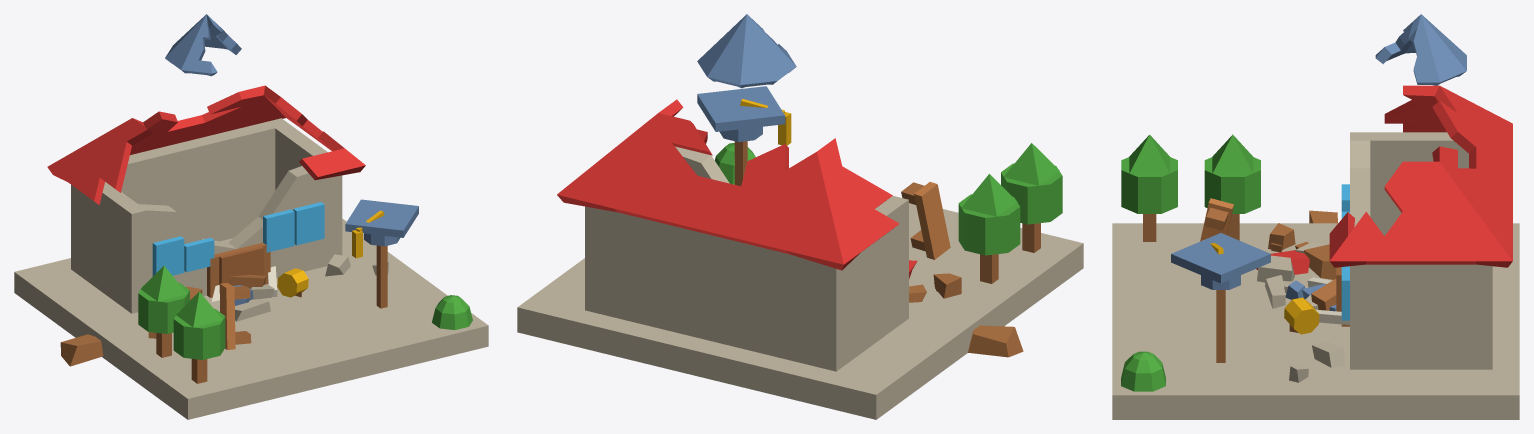
File: university_t1_v2_dmg1.glb
3 views of the same model, side by side, from view 1: azimuth 30°, elevation 25°; view 2: azimuth 150°, elevation 25°; view 3: azimuth 270°, elevation 25° (orthographic). The views are drawn at different scales.
Parts seen in each view (by area): view 1: university_t1_v2_dmg1; view 2: university_t1_v2_dmg1; view 3: university_t1_v2_dmg1.
Boxes of the visible parts, x1,y1,x2,y2 form: university_t1_v2_dmg1: (14,14,488,419); university_t1_v2_dmg1: (517,14,1083,419); university_t1_v2_dmg1: (1112,14,1519,419).
Bounding box in the file's own units: 0.6675 × 0.52 × 0.6.
Materials: 1 (1 with a texture image).
